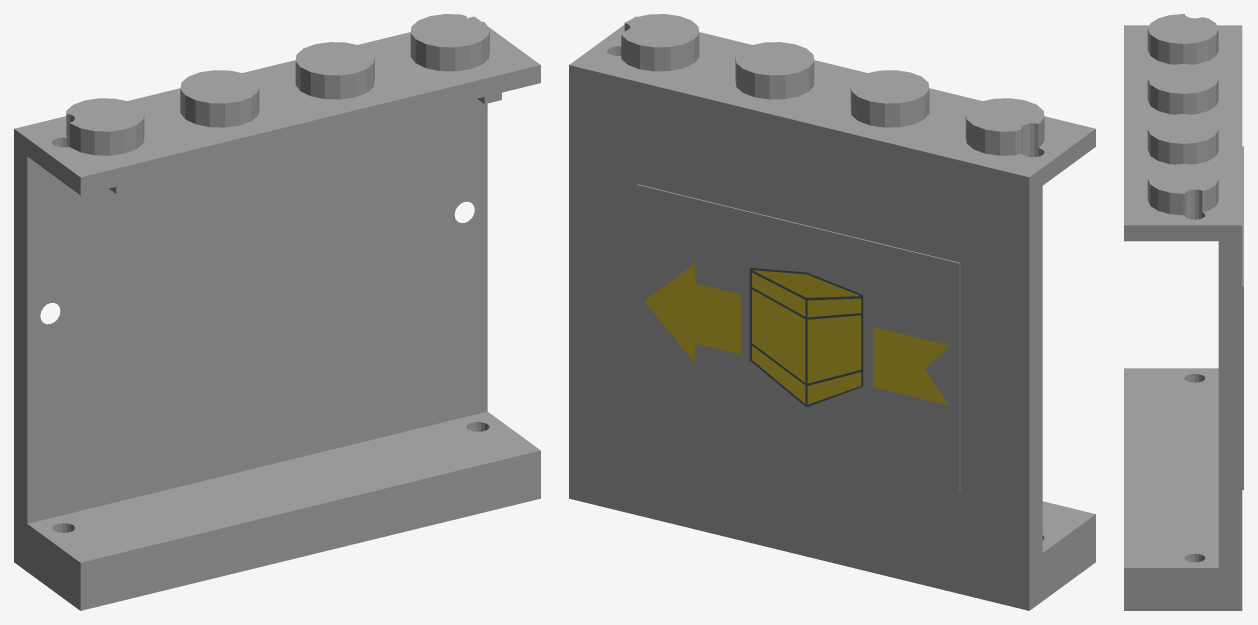
3 views of the same model, side by side, from view 1: azimuth 30°, elevation 25°; view 2: azimuth 150°, elevation 25°; view 3: azimuth 270°, elevation 25° (orthographic). The views are drawn at different scales.
Visible parts, largest first — view 1: world; view 2: world; view 3: world.
Part boxes in pixels (bbox=[...]): world: bbox=[14, 14, 540, 610]; world: bbox=[569, 14, 1095, 610]; world: bbox=[1124, 14, 1243, 610].
Bounding box in the file's own units: 0.032 × 0.0304 × 0.0081.
